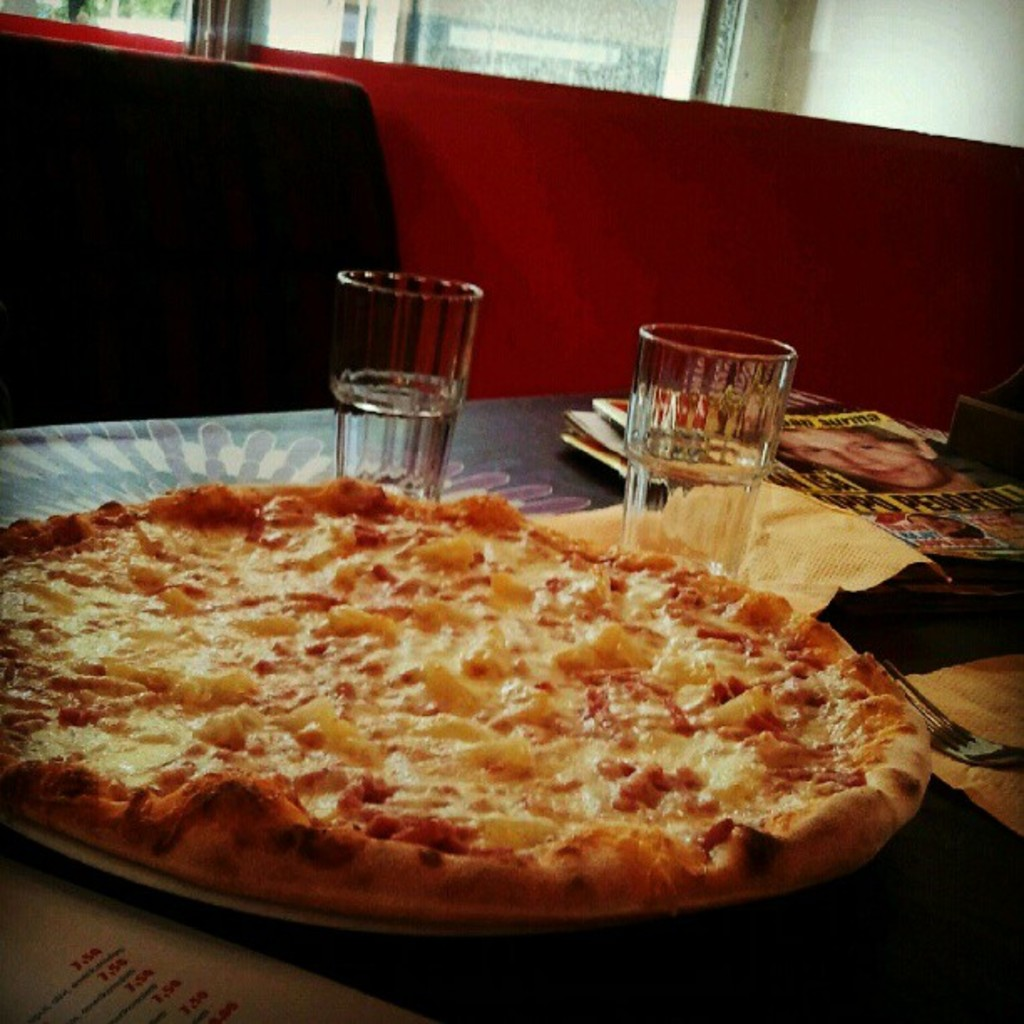Pizza: (0, 480, 925, 931)
